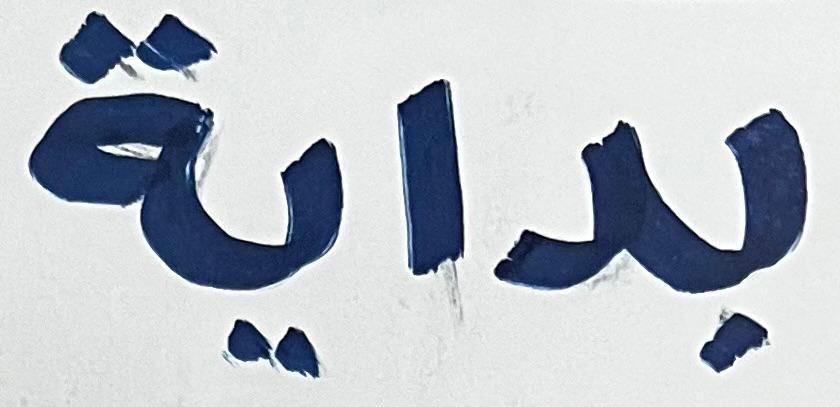alef: (382, 55, 480, 286)
lam: (488, 43, 647, 371)
teh_marbota: (24, 4, 215, 308)
yeh: (653, 18, 826, 387), (219, 129, 349, 382)
